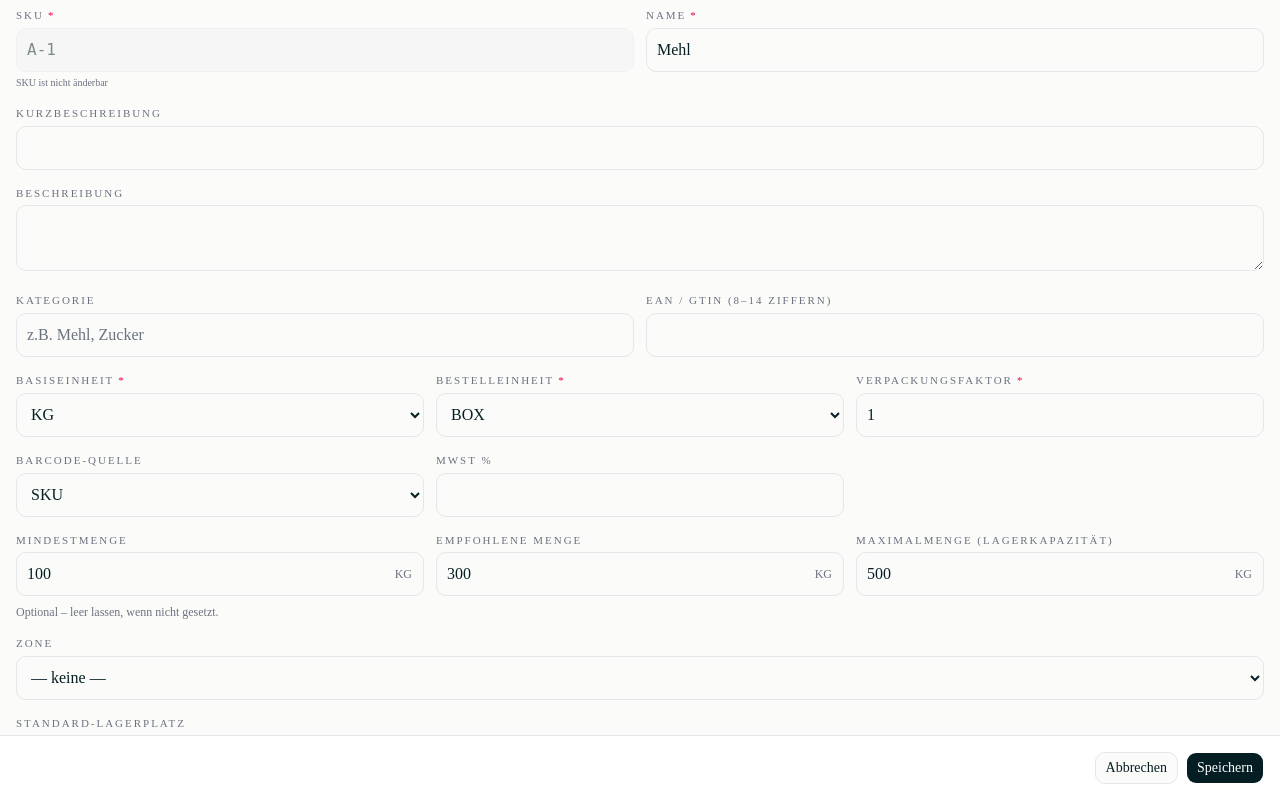
it: ArticleForm: Mengen › zeigt sofortigen Hinweis bei ungültiger Kombination
The image size is (1280, 800).
Replace the text in the field labelled "Maximalmenge (Lagerkapazität) KG" with "50": (1060, 574) [856,552,1264,596]
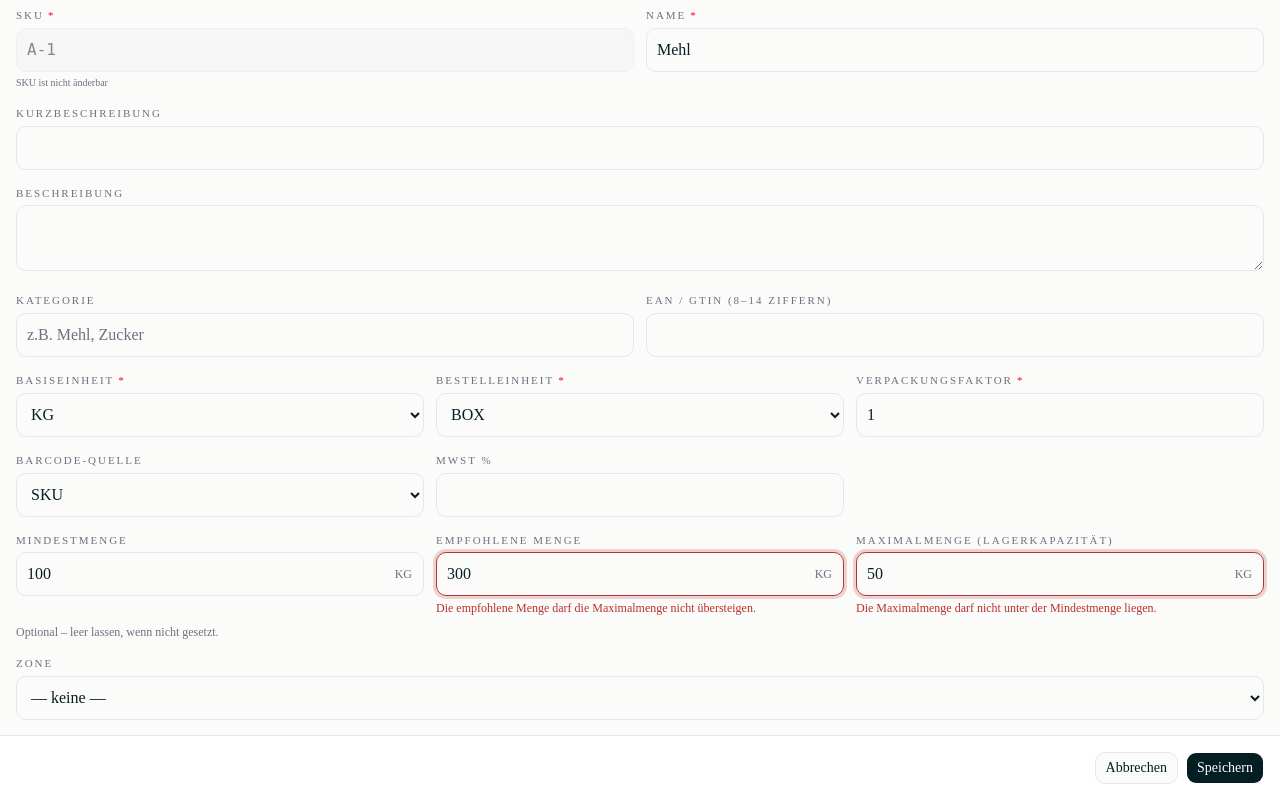
Now the message "Die empfohlene Menge darf die Maximalmenge nicht übersteigen." is shown, box [436,601,756,615]
